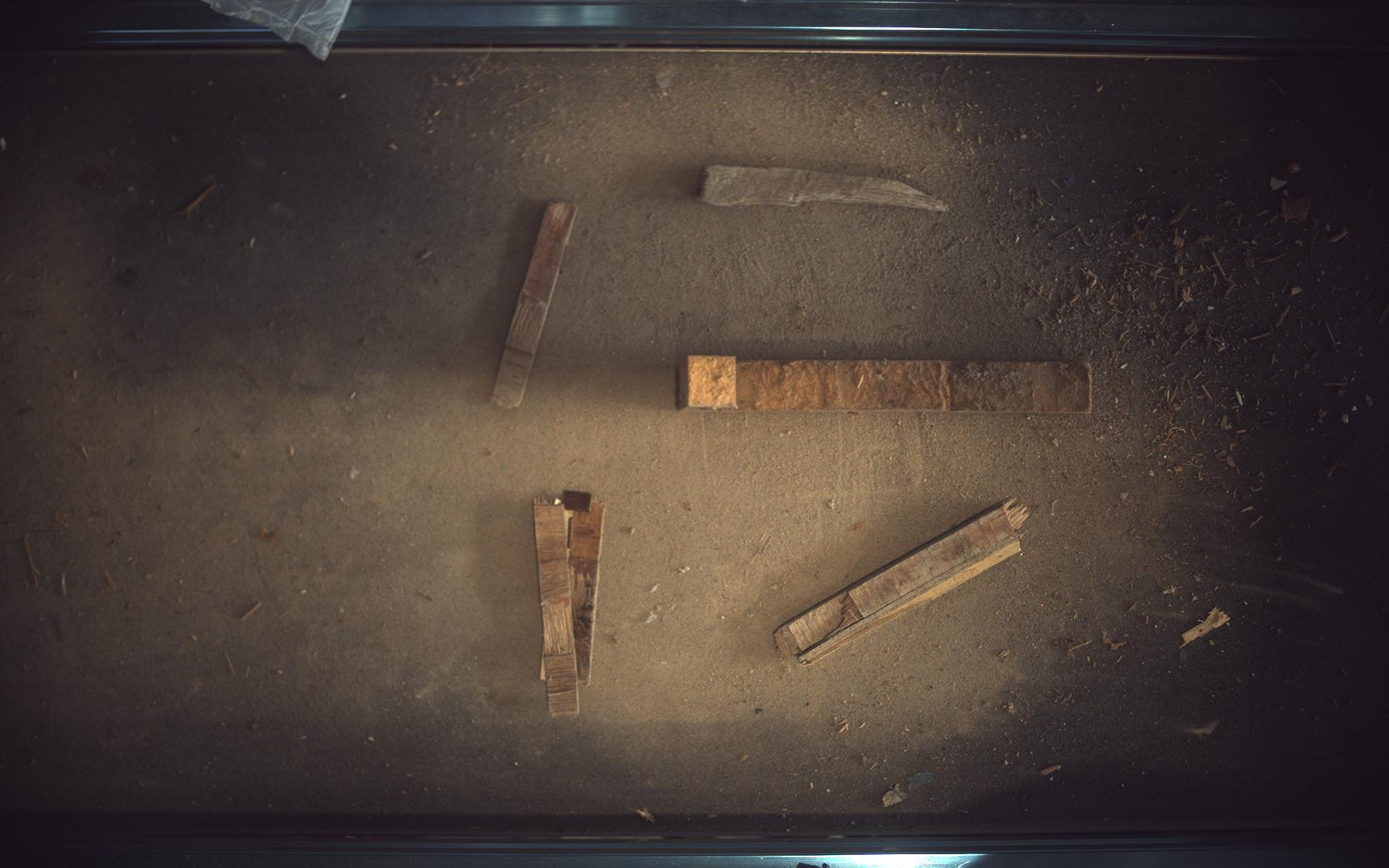wood: (776, 498, 1031, 666), (679, 354, 1094, 413), (491, 201, 577, 409), (535, 491, 606, 717), (702, 164, 951, 211)
